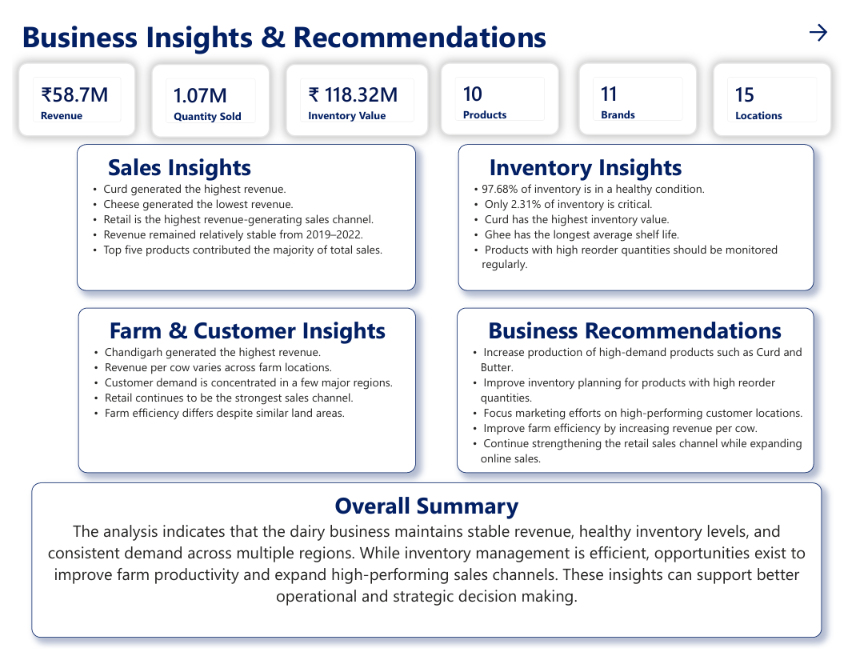

This screenshot's page, from the dashboard's own definition file:
{"tool":"powerbi","page":{"name":"Business Insights & Recommendations","canvas":[1370,1050],"ordinal":5},"visuals":[{"type":"textbox","box":[10,0,1085.7,81.4],"z":0},{"type":"textbox","box":[106.7,216.7,560.2,241.9],"z":0,"group":"g1"},{"type":"group","id":"g1","title":"Group 3","box":[106.7,216.7,1218.3,543.3],"z":1000},{"type":"textbox","box":[736.9,216.7,588.2,241.9],"z":1000,"group":"g1"},{"type":"group","id":"g2","title":"Group 1","box":[10,81.7,1343.3,123.3],"z":2000},{"type":"cardVisual","fields":{"Data":["Measures (2).Total Revenue"]},"box":[10,81.7,194,122],"z":2000,"group":"g2"},{"type":"textbox","box":[734.9,486.4,590.2,273.6],"z":2000,"group":"g1"},{"type":"textbox","box":[108.7,486.4,558.2,273.6],"z":3000,"group":"g1"},{"type":"textbox","box":[32,776,1306,256],"z":3000},{"type":"actionButton","box":[1311.7,13.3,48.3,38.3],"z":4000},{"type":"cardVisual","fields":{"Data":["Measures (2).Total Products"]},"box":[708,81.7,196,120],"z":4000,"group":"g2"},{"type":"cardVisual","fields":{"Data":["Measures (2).Total Brands"]},"box":[936,81.7,196,120],"z":5000,"group":"g2"},{"type":"cardVisual","fields":{"Data":["Measures (2).Total Farm Locations"]},"box":[1158,81.7,196,122],"z":6000,"group":"g2"},{"type":"cardVisual","fields":{"Data":["Measures (2).Total Inventory Value"]},"box":[452,83.7,236,120],"z":8000,"group":"g2"},{"type":"cardVisual","fields":{"Data":["Measures (2).Total Quantity Sold"]},"box":[230,83.7,196,122],"z":9000,"group":"g2"}]}

Visuals, with their boxes in screenshot pixels (x1, y1, x2, y2), scaled from the page's 1370x1050 canvas onto the 853x662 screenshot:
textbox: [6,0,682,51]
textbox: [66,137,415,289]
"Group 3" group: [66,137,825,479]
textbox: [459,137,825,289]
"Group 1" group: [6,52,843,129]
cardVisual - Measures (2).Total Revenue: [6,52,127,128]
textbox: [458,307,825,479]
textbox: [68,307,415,479]
textbox: [20,489,833,651]
actionButton: [817,8,847,33]
cardVisual - Measures (2).Total Products: [441,52,563,127]
cardVisual - Measures (2).Total Brands: [583,52,705,127]
cardVisual - Measures (2).Total Farm Locations: [721,52,843,128]
cardVisual - Measures (2).Total Inventory Value: [281,53,428,128]
cardVisual - Measures (2).Total Quantity Sold: [143,53,265,130]
